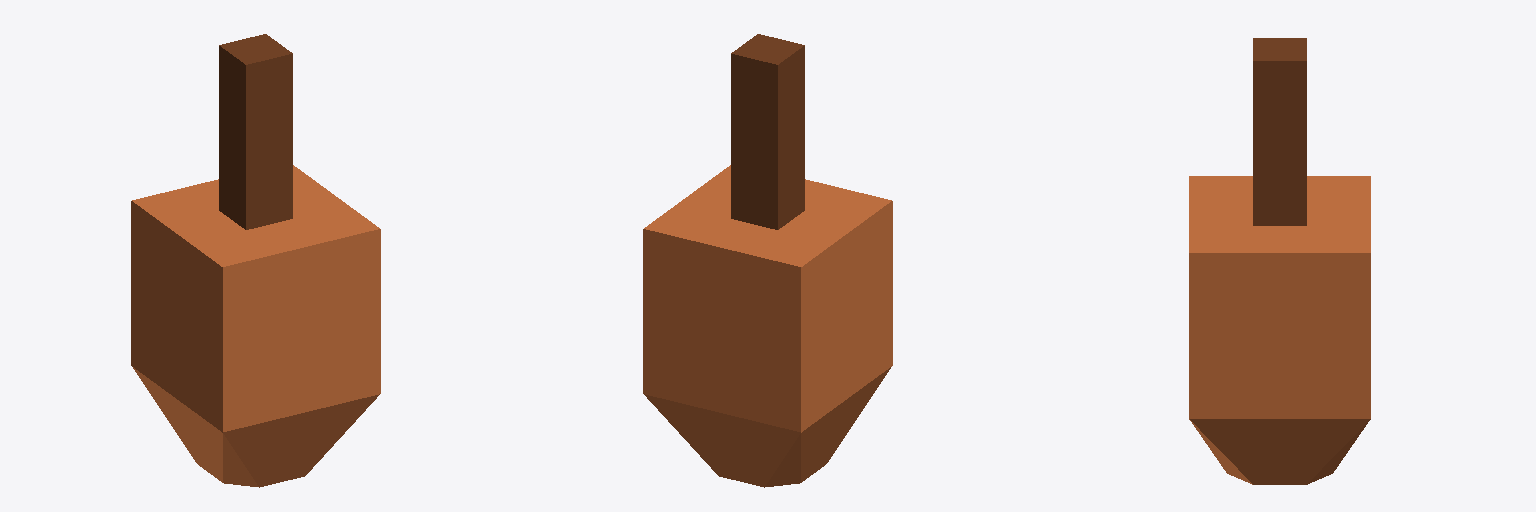
The model's file is hanukkahDreidel.obj.
The picture shows the model from 3 angles: view 1: azimuth 30°, elevation 25°; view 2: azimuth 150°, elevation 25°; view 3: azimuth 270°, elevation 25°; orthographic projection.
Parts seen in each view (by area): view 1: hanukkahDreidel; view 2: hanukkahDreidel; view 3: hanukkahDreidel.
Boxes of the visible parts, <box> form: hanukkahDreidel: <box>131,34,380,487</box>; hanukkahDreidel: <box>643,34,892,487</box>; hanukkahDreidel: <box>1189,38,1370,484</box>.
Size of the model in its own units: 0.074 by 0.185 by 0.074.